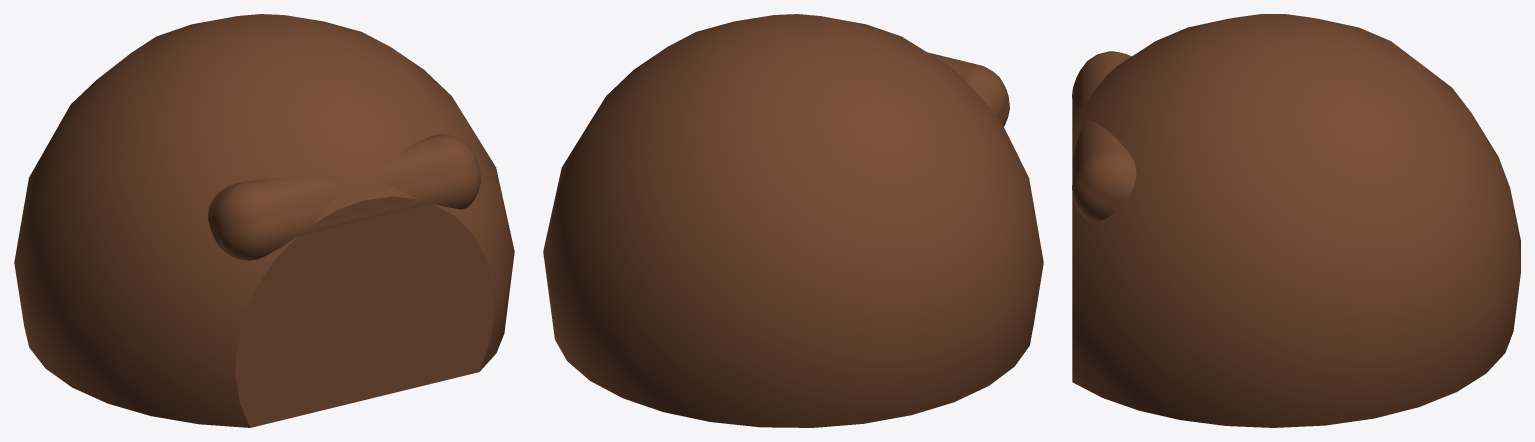
File: CharHairShort.glb
3 views of the same model, side by side, from view 1: azimuth 30°, elevation 25°; view 2: azimuth 150°, elevation 25°; view 3: azimuth 270°, elevation 25° (orthographic).
Visible parts, largest first — view 1: hairBrown; view 2: hairBrown; view 3: hairBrown.
Part boxes in pixels (bbox=[...]): hairBrown: bbox=[14, 14, 514, 427]; hairBrown: bbox=[543, 14, 1043, 427]; hairBrown: bbox=[1072, 14, 1520, 427].
Size of the model in its own units: 0.5496 by 0.355 by 0.4957.
